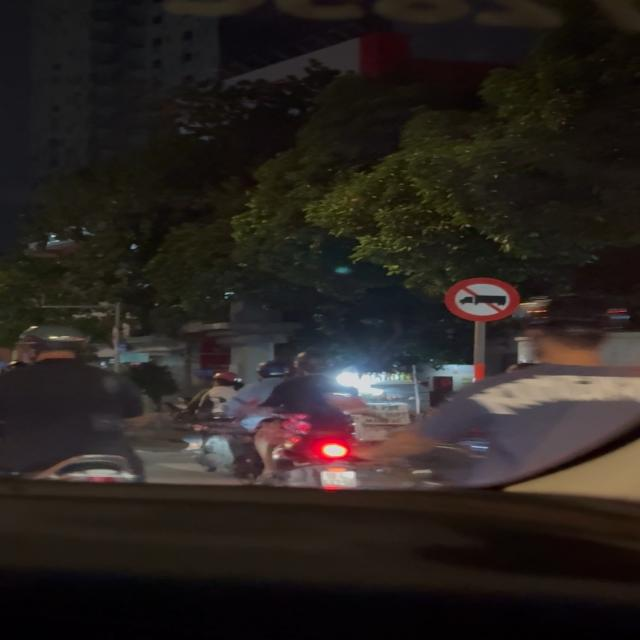Bien bao cam xe so-mi ro-mooc: (436, 274, 530, 324)
